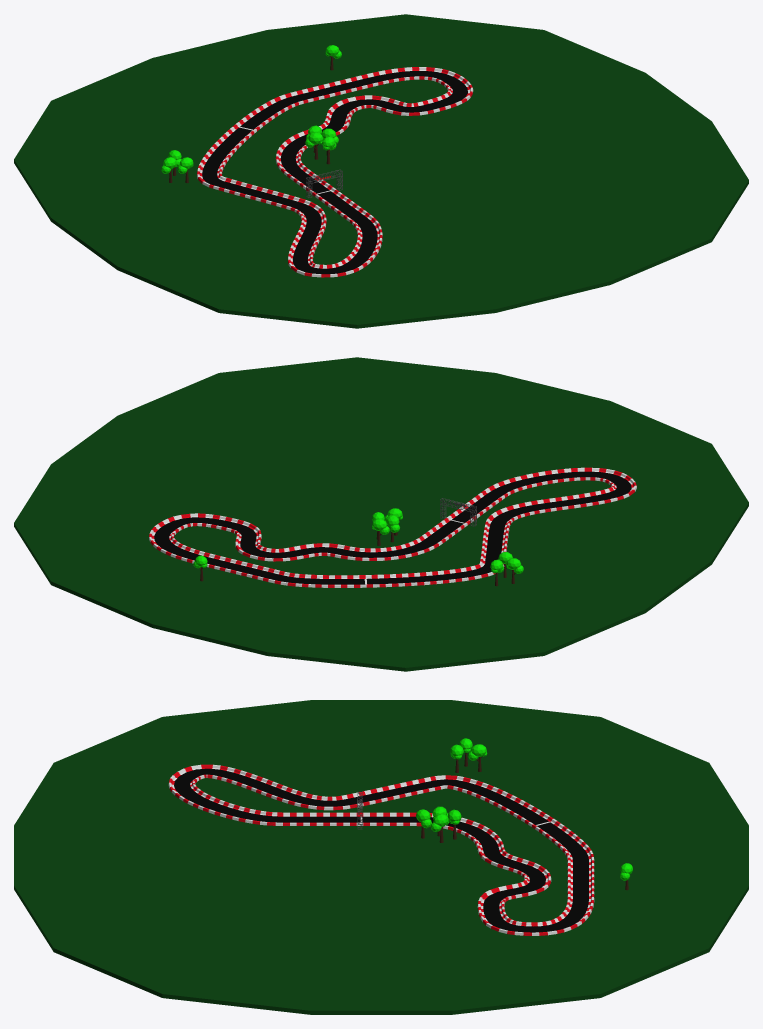
File: track.gltf
The picture shows the model from 3 angles, top to bottom: view 1: azimuth 30°, elevation 25°; view 2: azimuth 150°, elevation 25°; view 3: azimuth 270°, elevation 25°; orthographic projection. The views are drawn at different scales.
Parts seen in each view (by area): view 1: ground, track, rail, trees_2, trees_1; view 2: ground, rail, track, trees_2, trees_1; view 3: ground, rail, track, trees_2, trees_1.
Boxes of the visible parts, x1,y1,x2,y2 form: ground: (14, 14, 748, 328); track: (202, 71, 467, 274); rail: (197, 67, 473, 277); trees_2: (305, 125, 338, 164); trees_1: (161, 150, 193, 183); ground: (14, 357, 748, 671); rail: (149, 467, 636, 587); track: (154, 471, 631, 584); trees_2: (372, 508, 402, 545); trees_1: (490, 552, 523, 586); ground: (14, 700, 748, 1014); rail: (168, 764, 594, 935); track: (174, 768, 588, 932); trees_2: (416, 806, 461, 842); trees_1: (450, 738, 487, 772).
Size of the model in its own units: 311 by 15.02 by 311.
